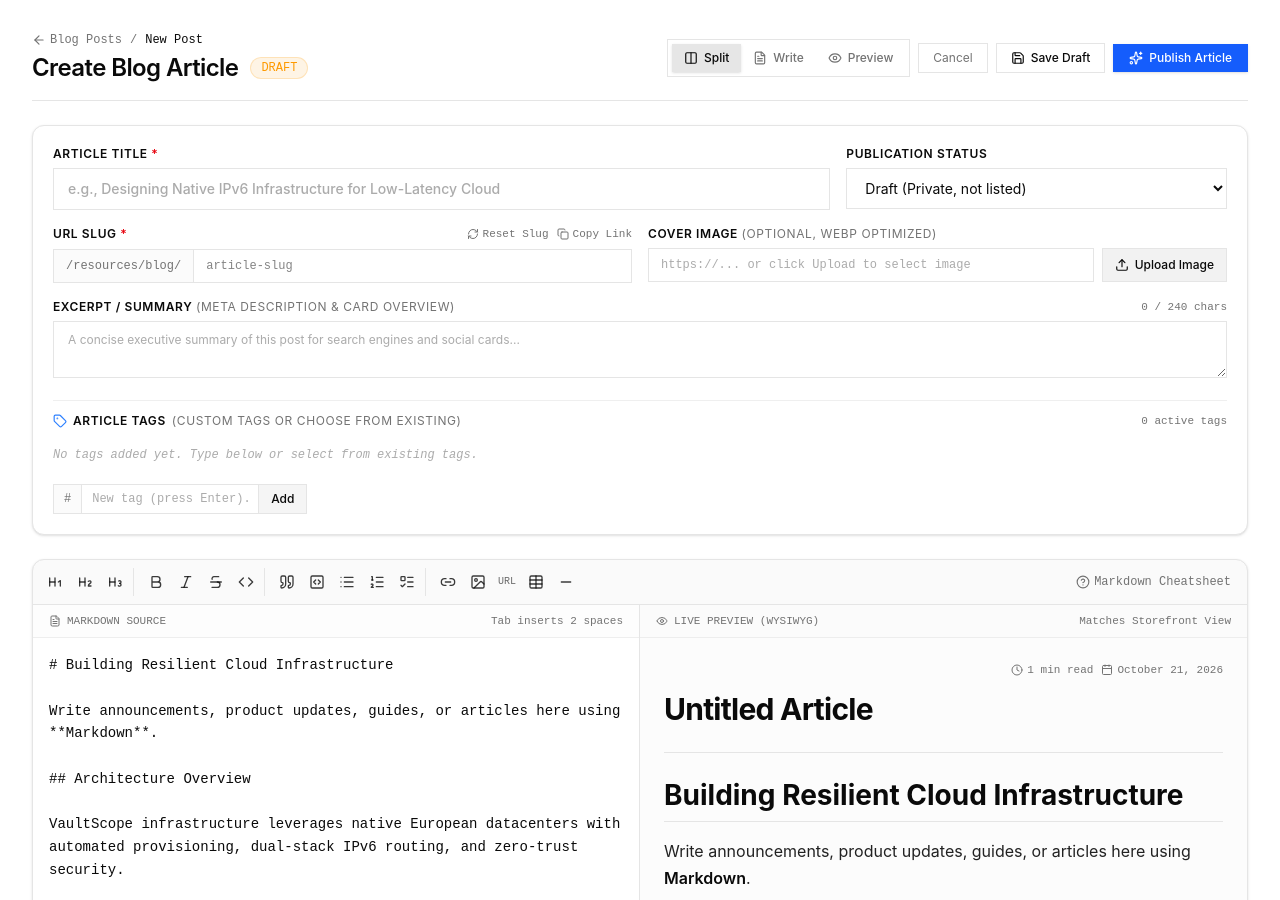
Test: BlogEdit - Markdown Editor with Live Preview › auto-generates slug from title when slug is not manually edited
The width and height of the screenshot is (1280, 900).
Replace the text in the field with placeholder "Designing Native IPv6 Infrastructure" with "Scaling Ceph Storage Clusters" at (442, 189), box x1=53 y1=168 x2=830 y2=210
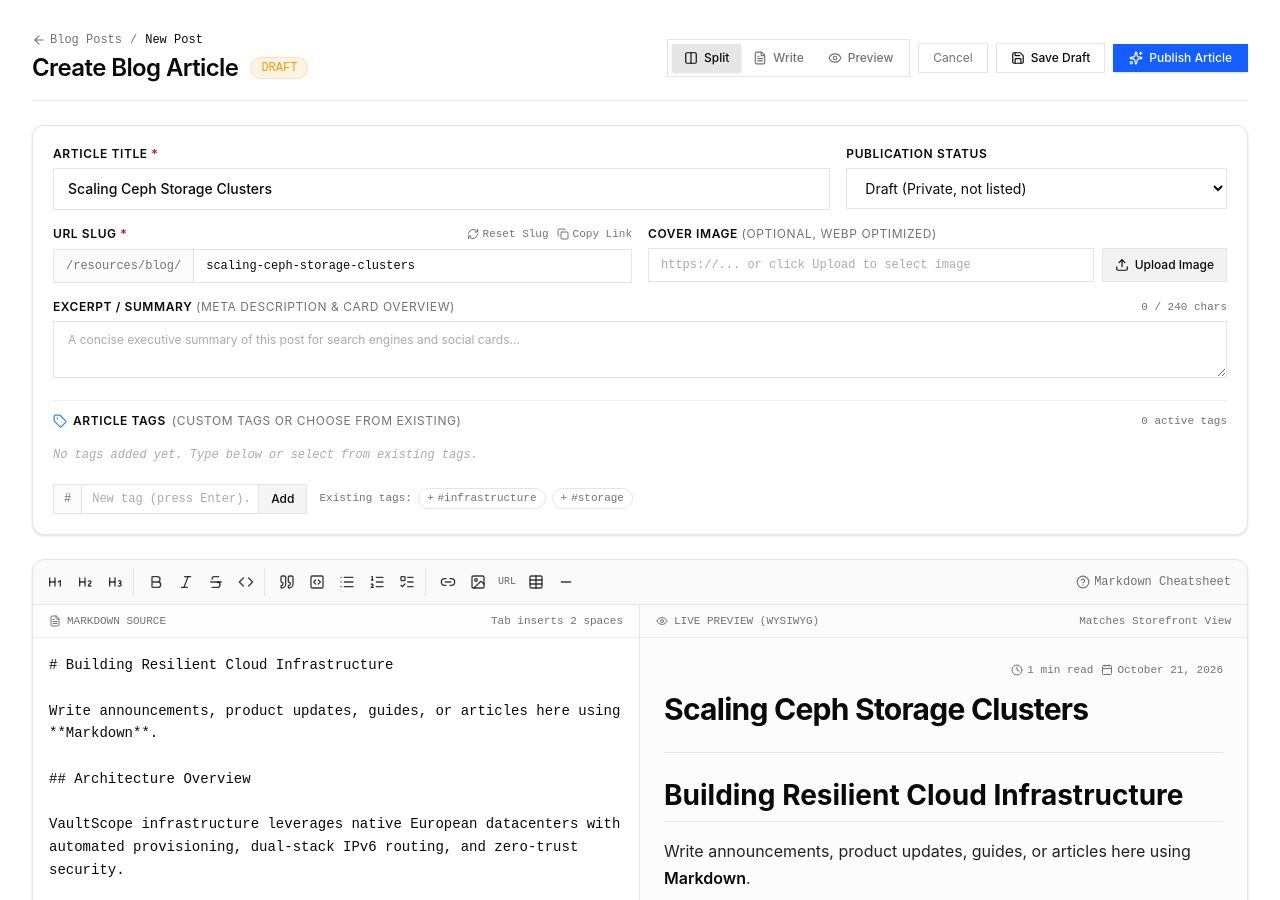
Expected: the field with placeholder "article-slug" below "URL Slug" holds "scaling-ceph-storage-clusters", x1=194 y1=250 x2=631 y2=282
